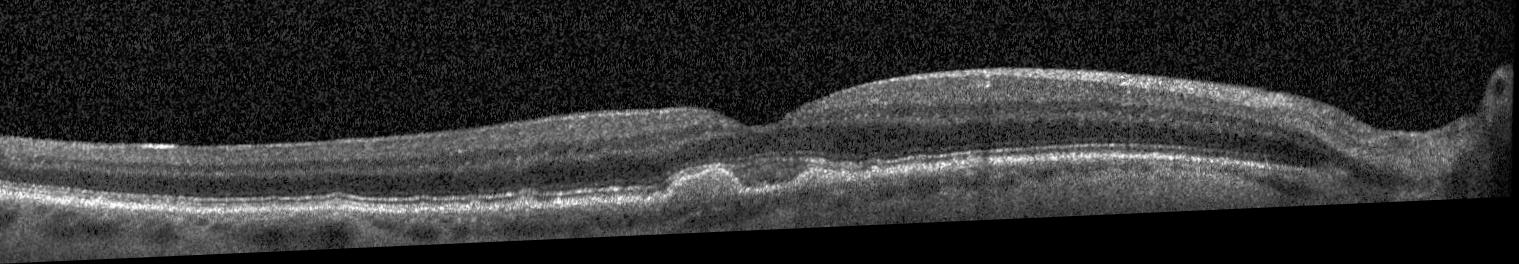retinal_drusen: (667, 177, 739, 210), (798, 179, 840, 195), (416, 204, 437, 217), (514, 203, 538, 214), (325, 202, 347, 213), (472, 205, 481, 213)
